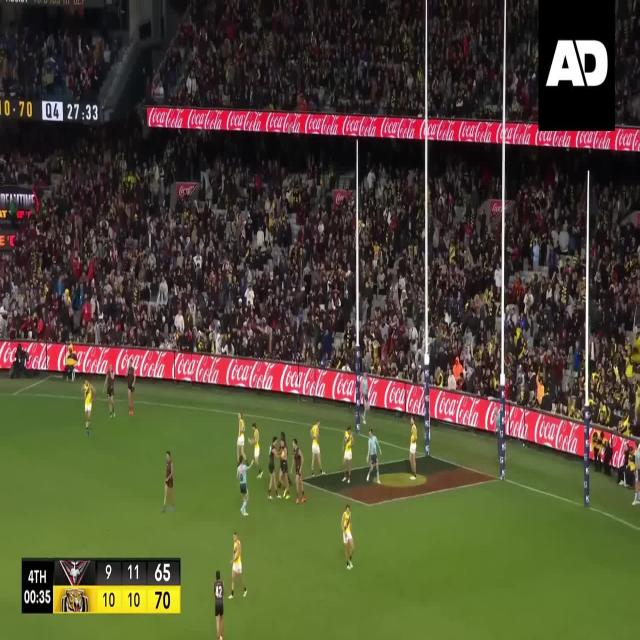crowd: (0, 106, 640, 436), (149, 2, 540, 119), (0, 11, 129, 102), (616, 0, 640, 130)
